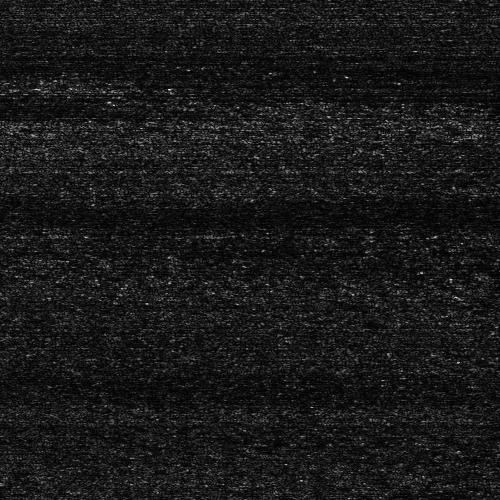rock: (462, 495, 500, 500)
